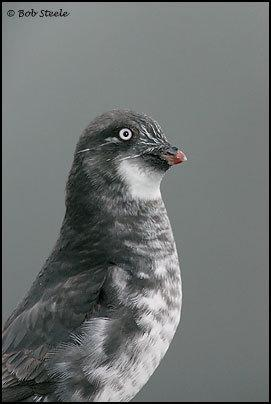006.Least_Auklet: (2, 110, 189, 404)
